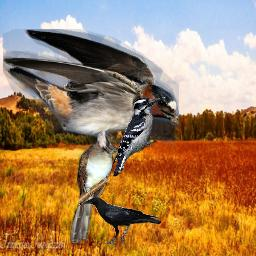Crow: (82, 196, 161, 244)
Cuckoo: (70, 140, 120, 243)
Swallow: (3, 29, 179, 161)
Woodpecker: (112, 96, 160, 177)
